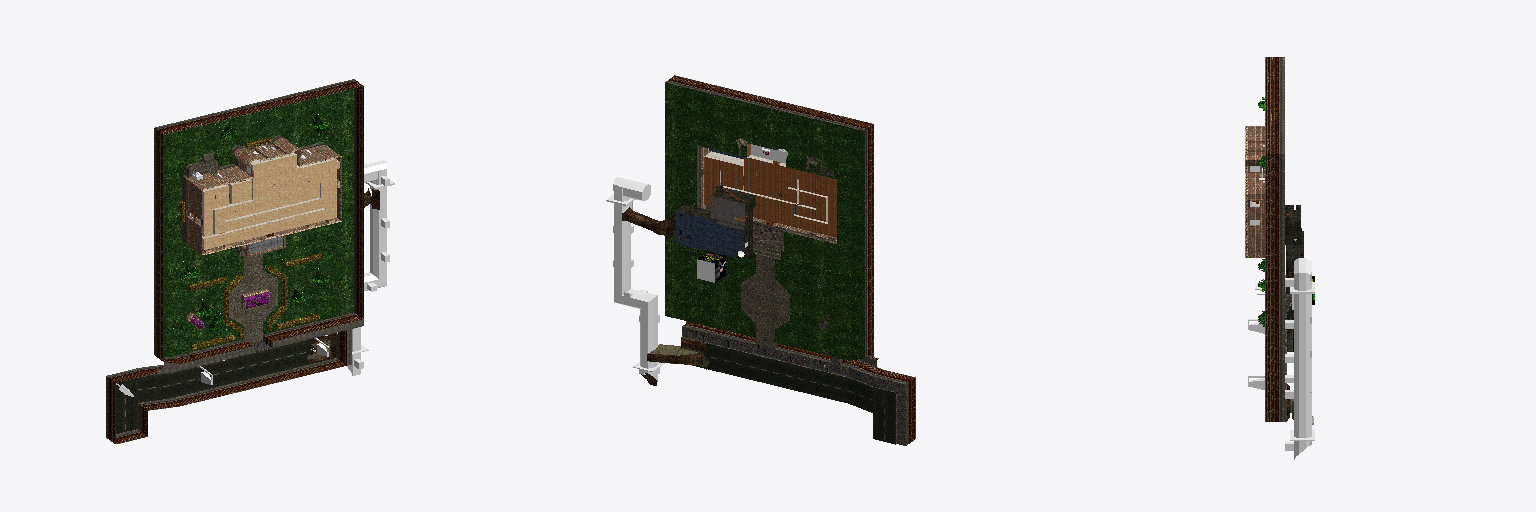
3 views of the same model, side by side, from view 1: azimuth 30°, elevation 25°; view 2: azimuth 150°, elevation 25°; view 3: azimuth 270°, elevation 25° (orthographic).
Parts seen in each view (by area): view 1: BSP_Object.model_0; view 2: BSP_Object.model_0; view 3: BSP_Object.model_0.
Boxes of the visible parts, x1,y1,x2,y2 form: BSP_Object.model_0: [106, 79, 388, 443]; BSP_Object.model_0: [614, 75, 921, 445]; BSP_Object.model_0: [1245, 57, 1314, 459].
Size of the model in its own units: 2976 by 2976 by 632.
Materials: 70 (69 with a texture image).